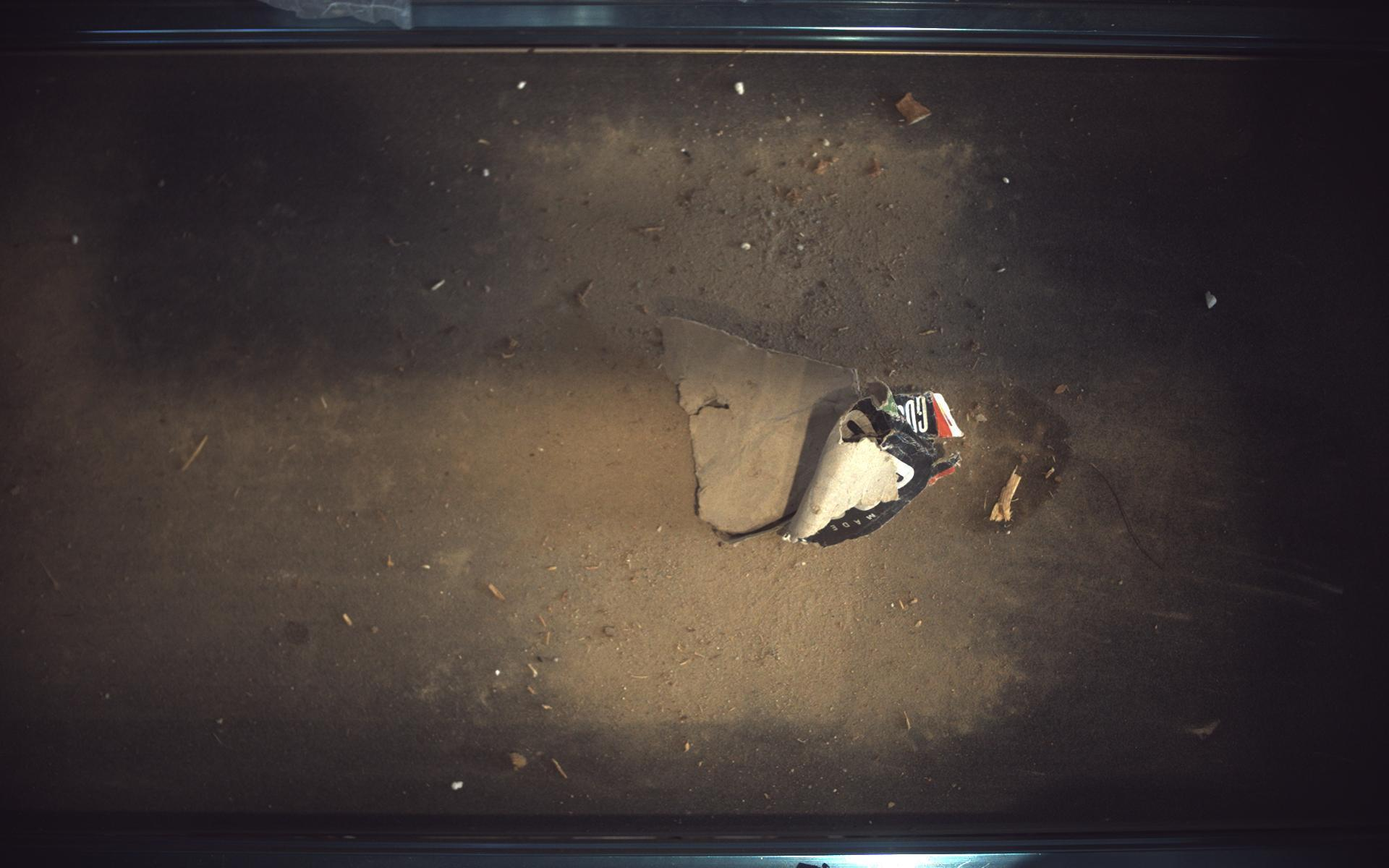general_w: (660, 317, 965, 546)
